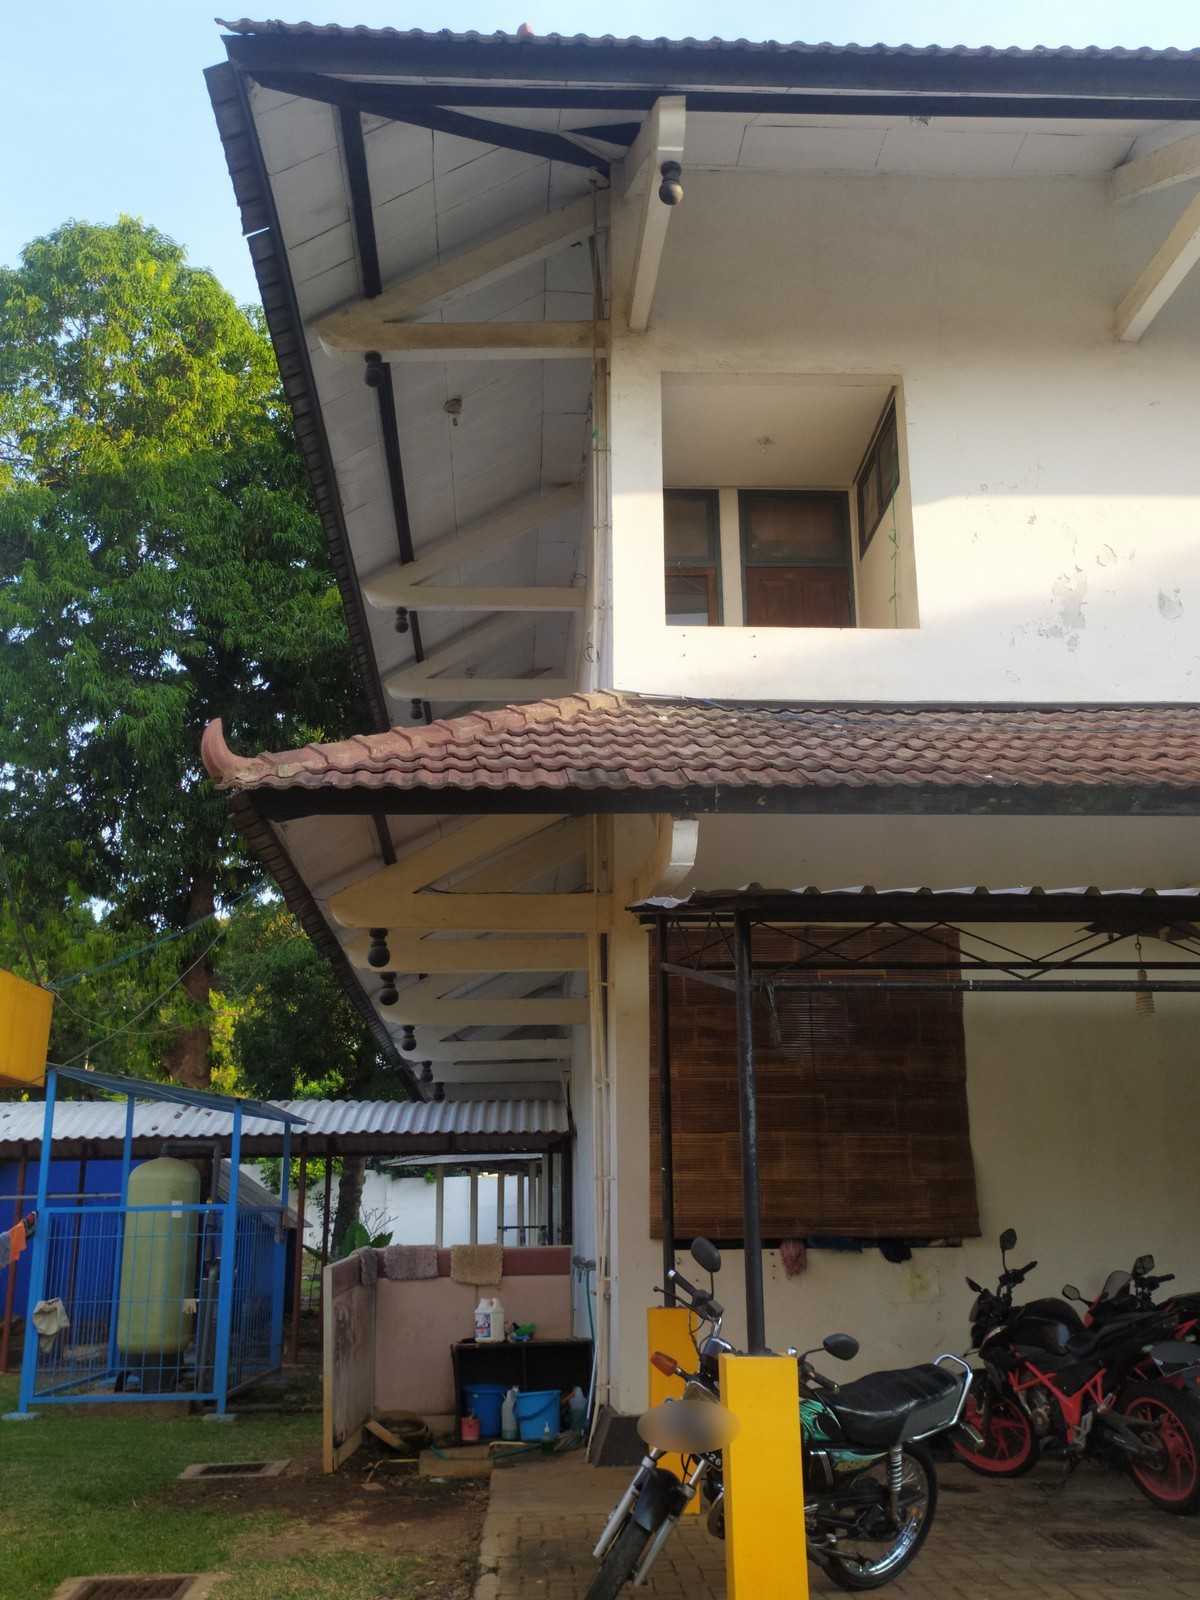concrete beam: (410, 881, 620, 941), (382, 319, 620, 367), (408, 931, 618, 984), (411, 984, 586, 1029), (411, 574, 584, 617), (429, 670, 587, 713)
concrete column: (711, 1351, 818, 1600)
